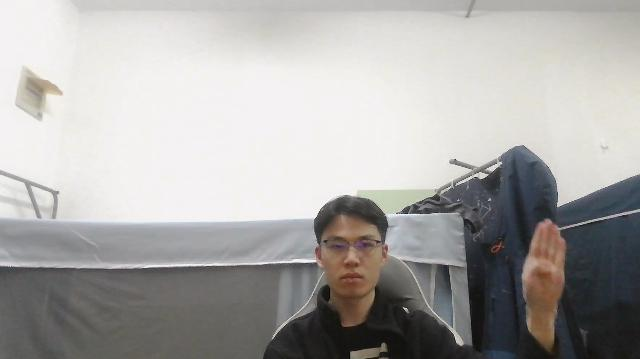four: (520, 218, 567, 301)
